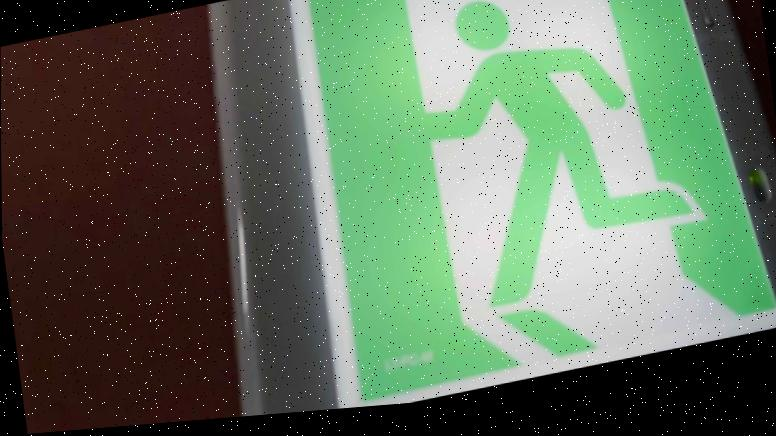emergency_exit: (2, 1, 773, 432)
